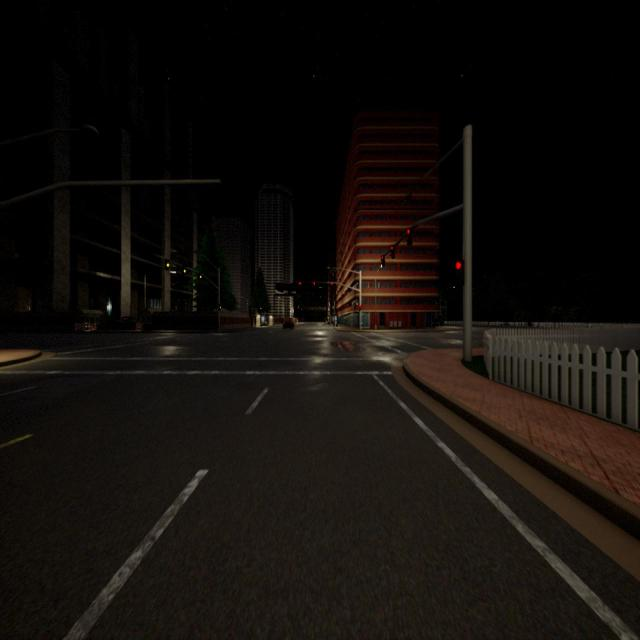Vehicle: (282, 320, 295, 330)
traffic_light: (455, 260, 465, 288), (405, 227, 413, 246), (164, 259, 171, 270), (390, 245, 395, 259), (380, 255, 385, 267), (218, 304, 222, 312), (183, 266, 186, 276), (199, 272, 202, 281), (312, 282, 316, 286), (359, 304, 361, 312), (298, 281, 301, 285), (330, 282, 333, 285)
